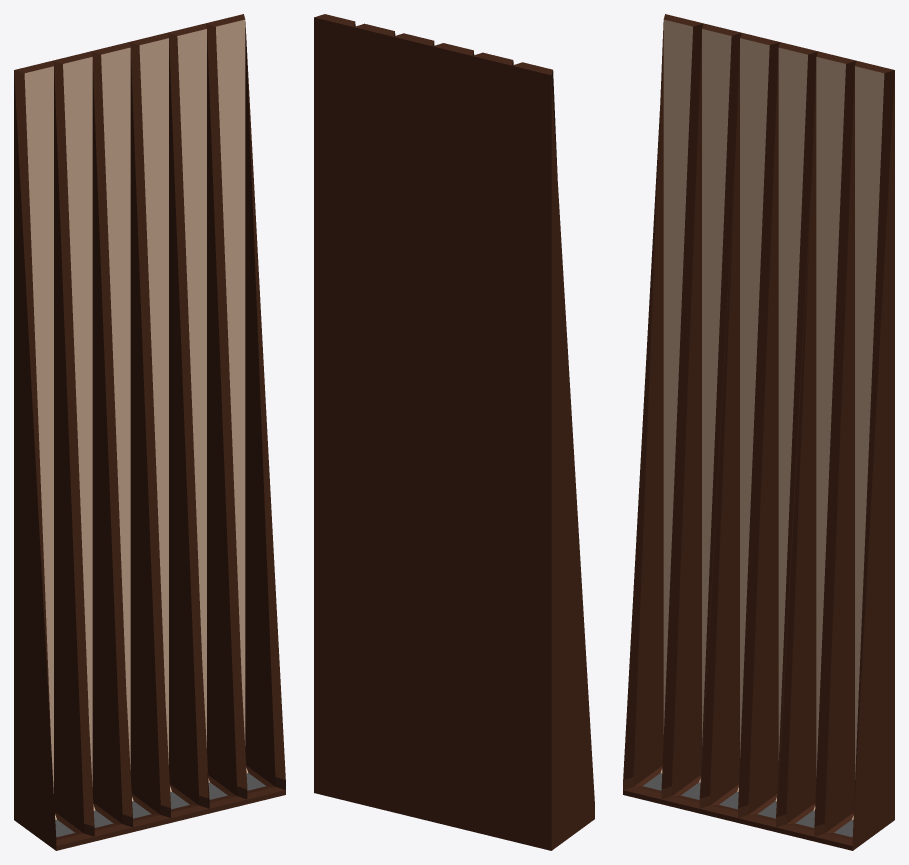
File: Pool Cue Holder.fbx
The picture shows the model from 3 angles, left to right: view 1: azimuth 30°, elevation 25°; view 2: azimuth 150°, elevation 25°; view 3: azimuth 330°, elevation 25°; orthographic projection. The views are drawn at different scales.
Visible parts, largest first — view 1: Pool Cue Holder; view 2: Pool Cue Holder; view 3: Pool Cue Holder.
Boxes of the visible parts, <box> form: Pool Cue Holder: <box>14,14,285,850</box>; Pool Cue Holder: <box>314,14,594,850</box>; Pool Cue Holder: <box>623,14,894,850</box>.
Size of the model in its own units: 777 by 2424 by 246.
